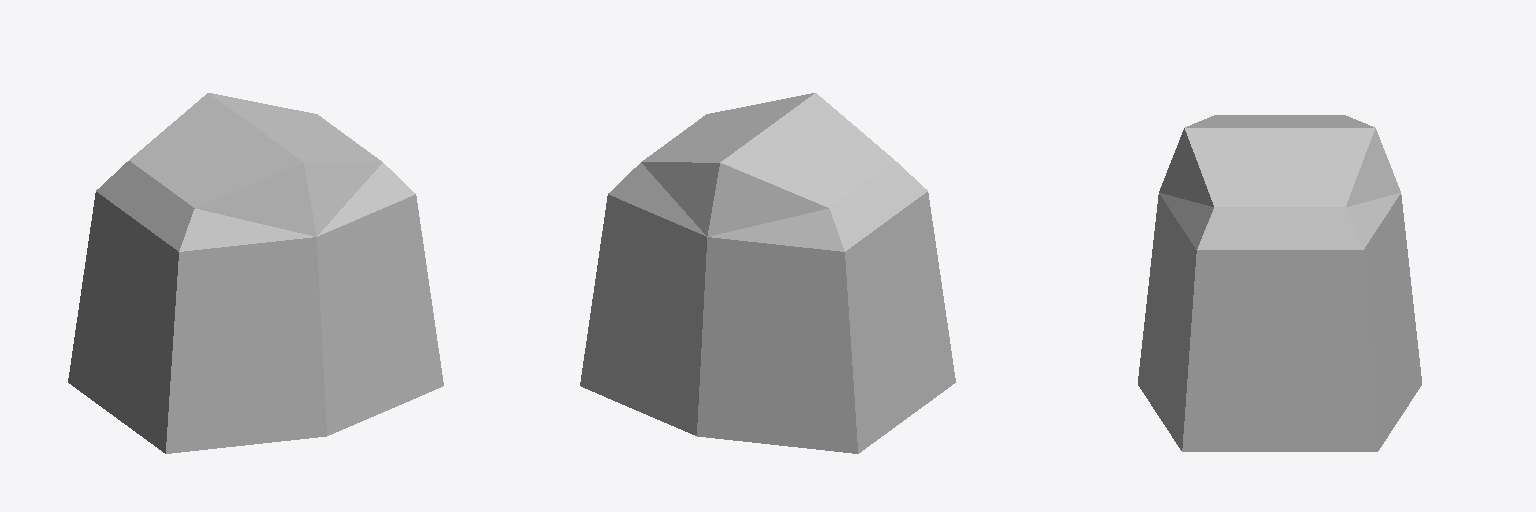
Rendered from bush_ex.obj.
The picture shows the model from 3 angles: view 1: azimuth 30°, elevation 25°; view 2: azimuth 150°, elevation 25°; view 3: azimuth 270°, elevation 25°; orthographic projection.
Visible parts, largest first — view 1: Bush; view 2: Bush; view 3: Bush.
Part boxes in pixels (x1,y1,x2,y2): Bush: (68,93,443,453); Bush: (580,93,955,453); Bush: (1138,115,1421,451).
Bounding box in the file's own units: 37.08 × 32.67 × 32.84.